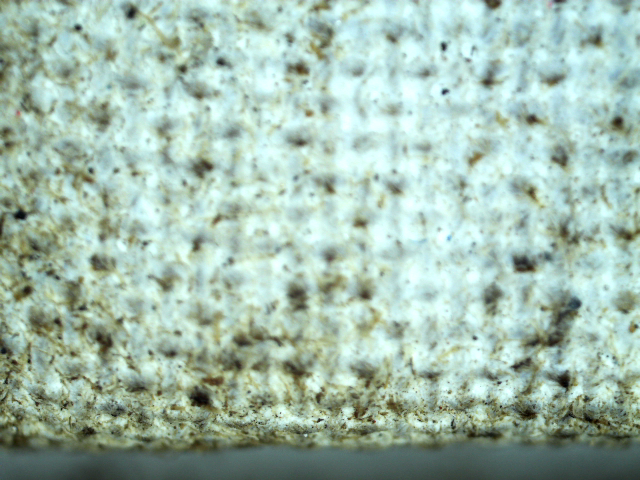ovo: (461, 154, 505, 205)
